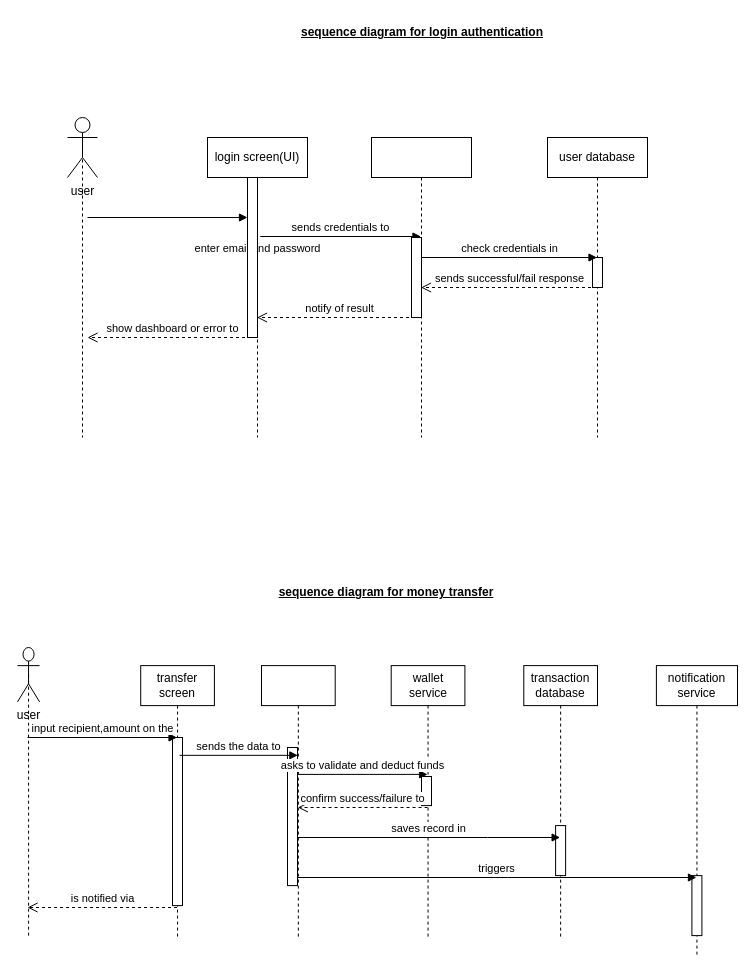
Image size: 755x973. Some labels were removed from this diagram. Here are the shapes that lost their labels. From the top down, the centre of each, then its label:
the point at 421,287: authentication controller
the point at 297,801: transfer controller
